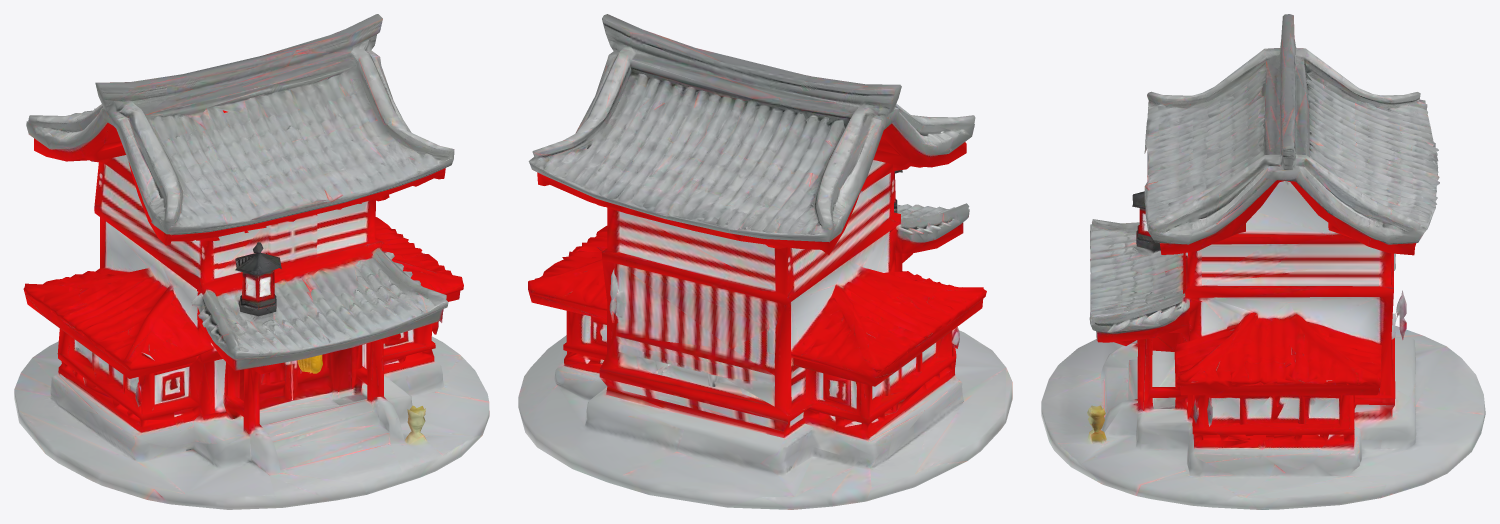
File: c_osu.glb
3 renders of one model, left to right at view 1: azimuth 30°, elevation 25°; view 2: azimuth 150°, elevation 25°; view 3: azimuth 270°, elevation 25°, orthographic. The views are drawn at different scales.
Size of the model in its own units: 1.91 by 1.6 by 1.91.
Materials: 1 (1 with a texture image).
